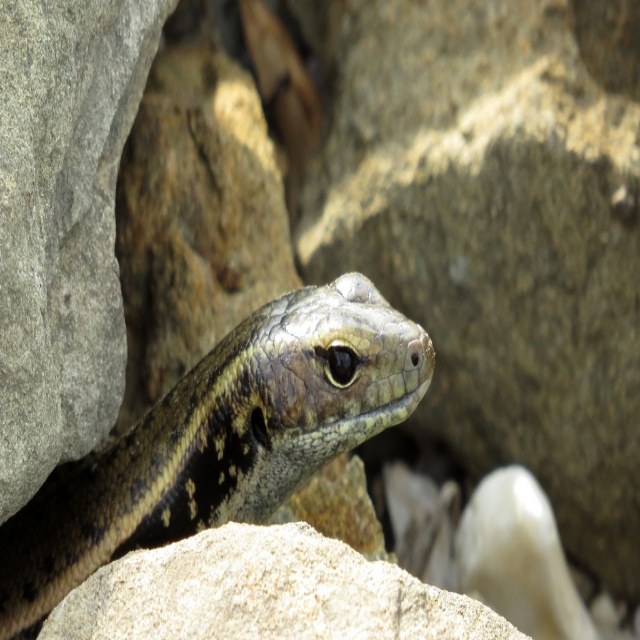Lizard: (0, 263, 433, 635)
